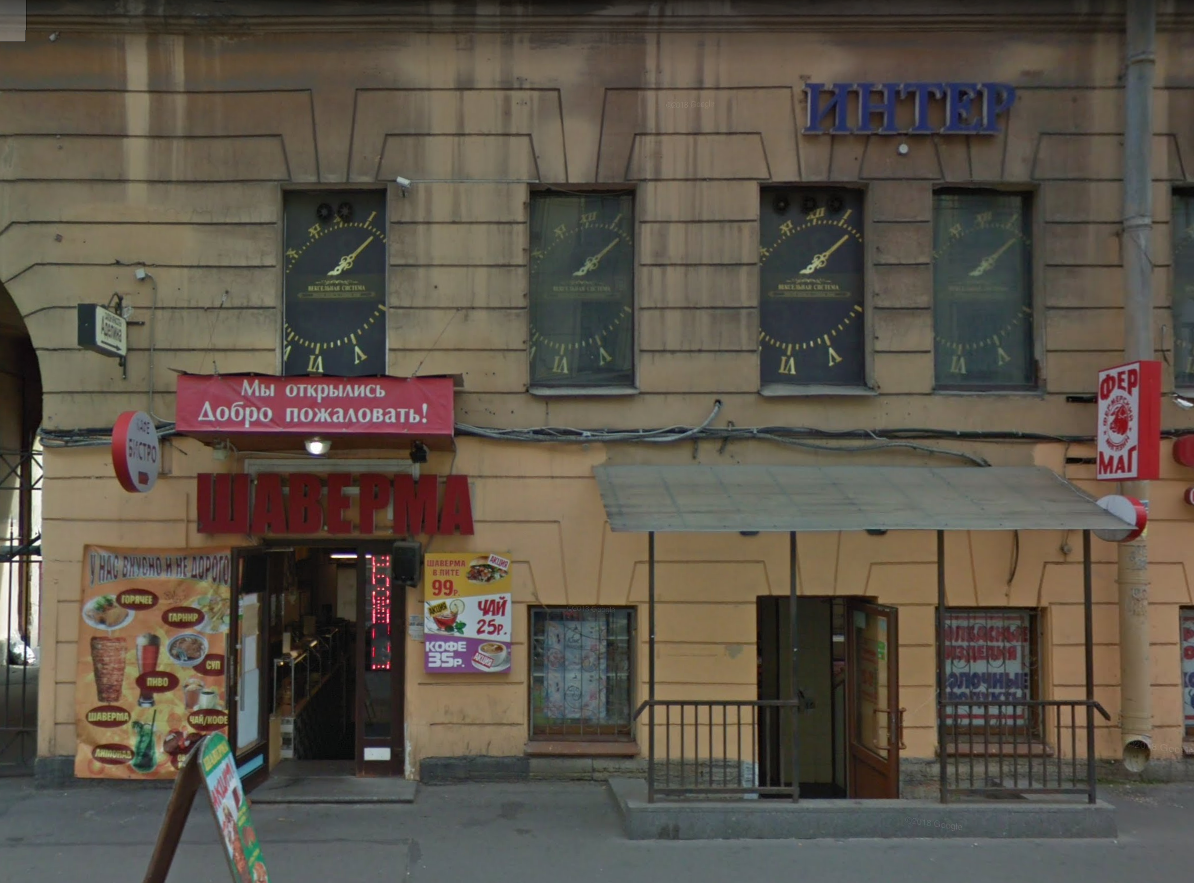cantilever: (1057, 349, 1169, 484), (67, 273, 153, 383), (97, 399, 177, 511)
door: (227, 543, 403, 783)
signboard: (193, 464, 490, 538), (782, 68, 1018, 145)
window: (758, 184, 864, 391), (527, 182, 631, 391), (933, 183, 1035, 392), (285, 185, 385, 373), (933, 614, 1047, 751), (528, 609, 635, 753)
